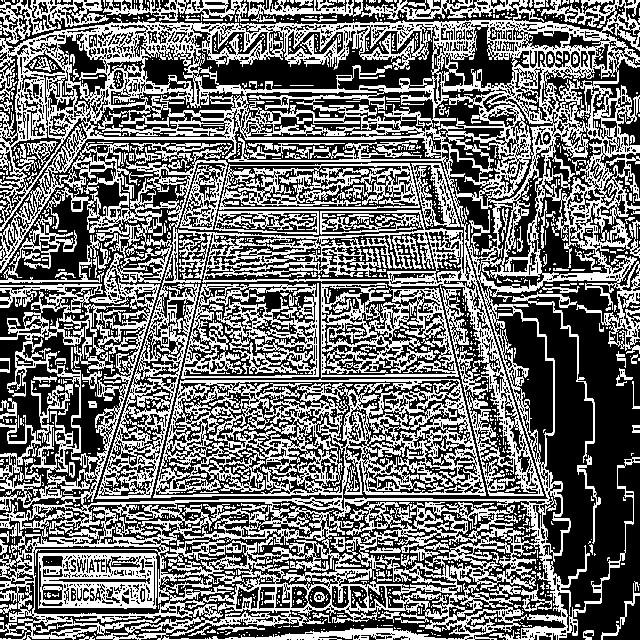left side: (92, 162, 228, 501), (410, 161, 545, 497)
player: (335, 389, 368, 510), (223, 100, 248, 163)
